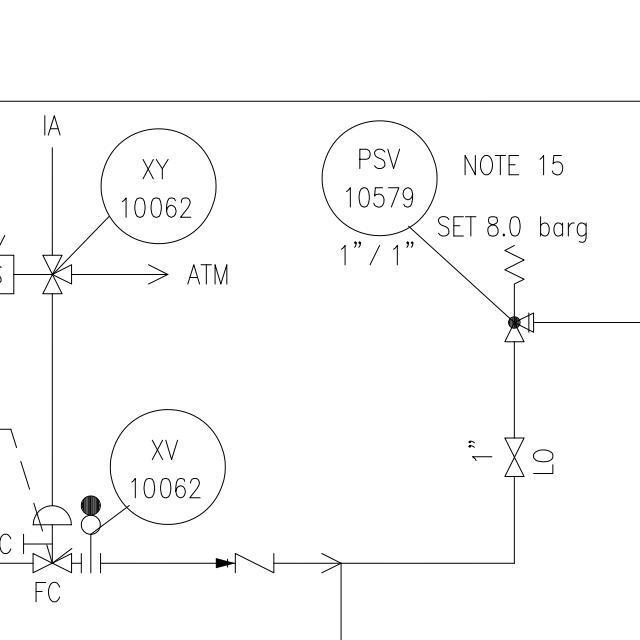3W: (38, 250, 77, 301)
FC: (28, 498, 75, 579)
GV: (501, 432, 526, 480)
RPV: (500, 238, 541, 352)
